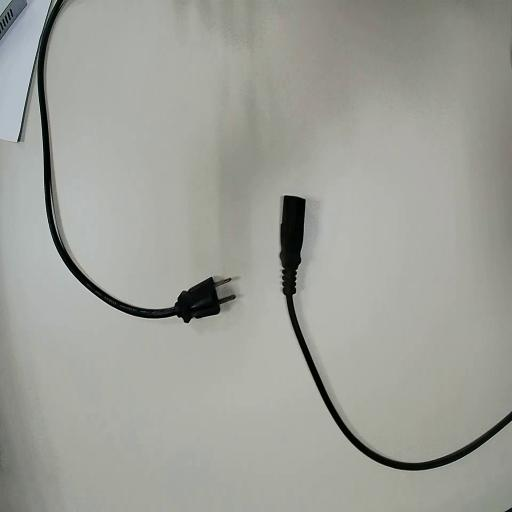wire: (281, 196, 511, 469), (38, 0, 233, 321)
